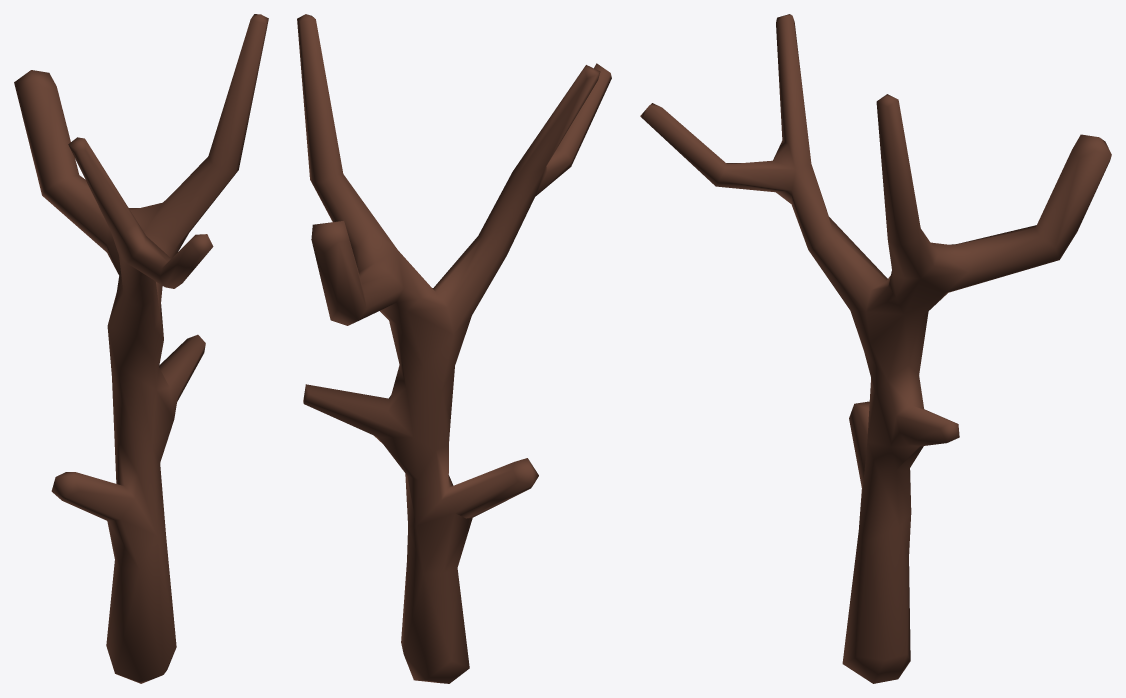
The model's file is Tree2.fbx.
3 views of the same model, side by side, from view 1: azimuth 30°, elevation 25°; view 2: azimuth 150°, elevation 25°; view 3: azimuth 270°, elevation 25° (orthographic).
Visible parts, largest first — view 1: Tree2; view 2: Tree2; view 3: Tree2.
Part boxes in pixels (x1,y1,x2,y2): Tree2: [14, 14, 268, 683]; Tree2: [297, 14, 611, 683]; Tree2: [640, 14, 1111, 683].
Size of the model in its own units: 268 by 653 by 432.
